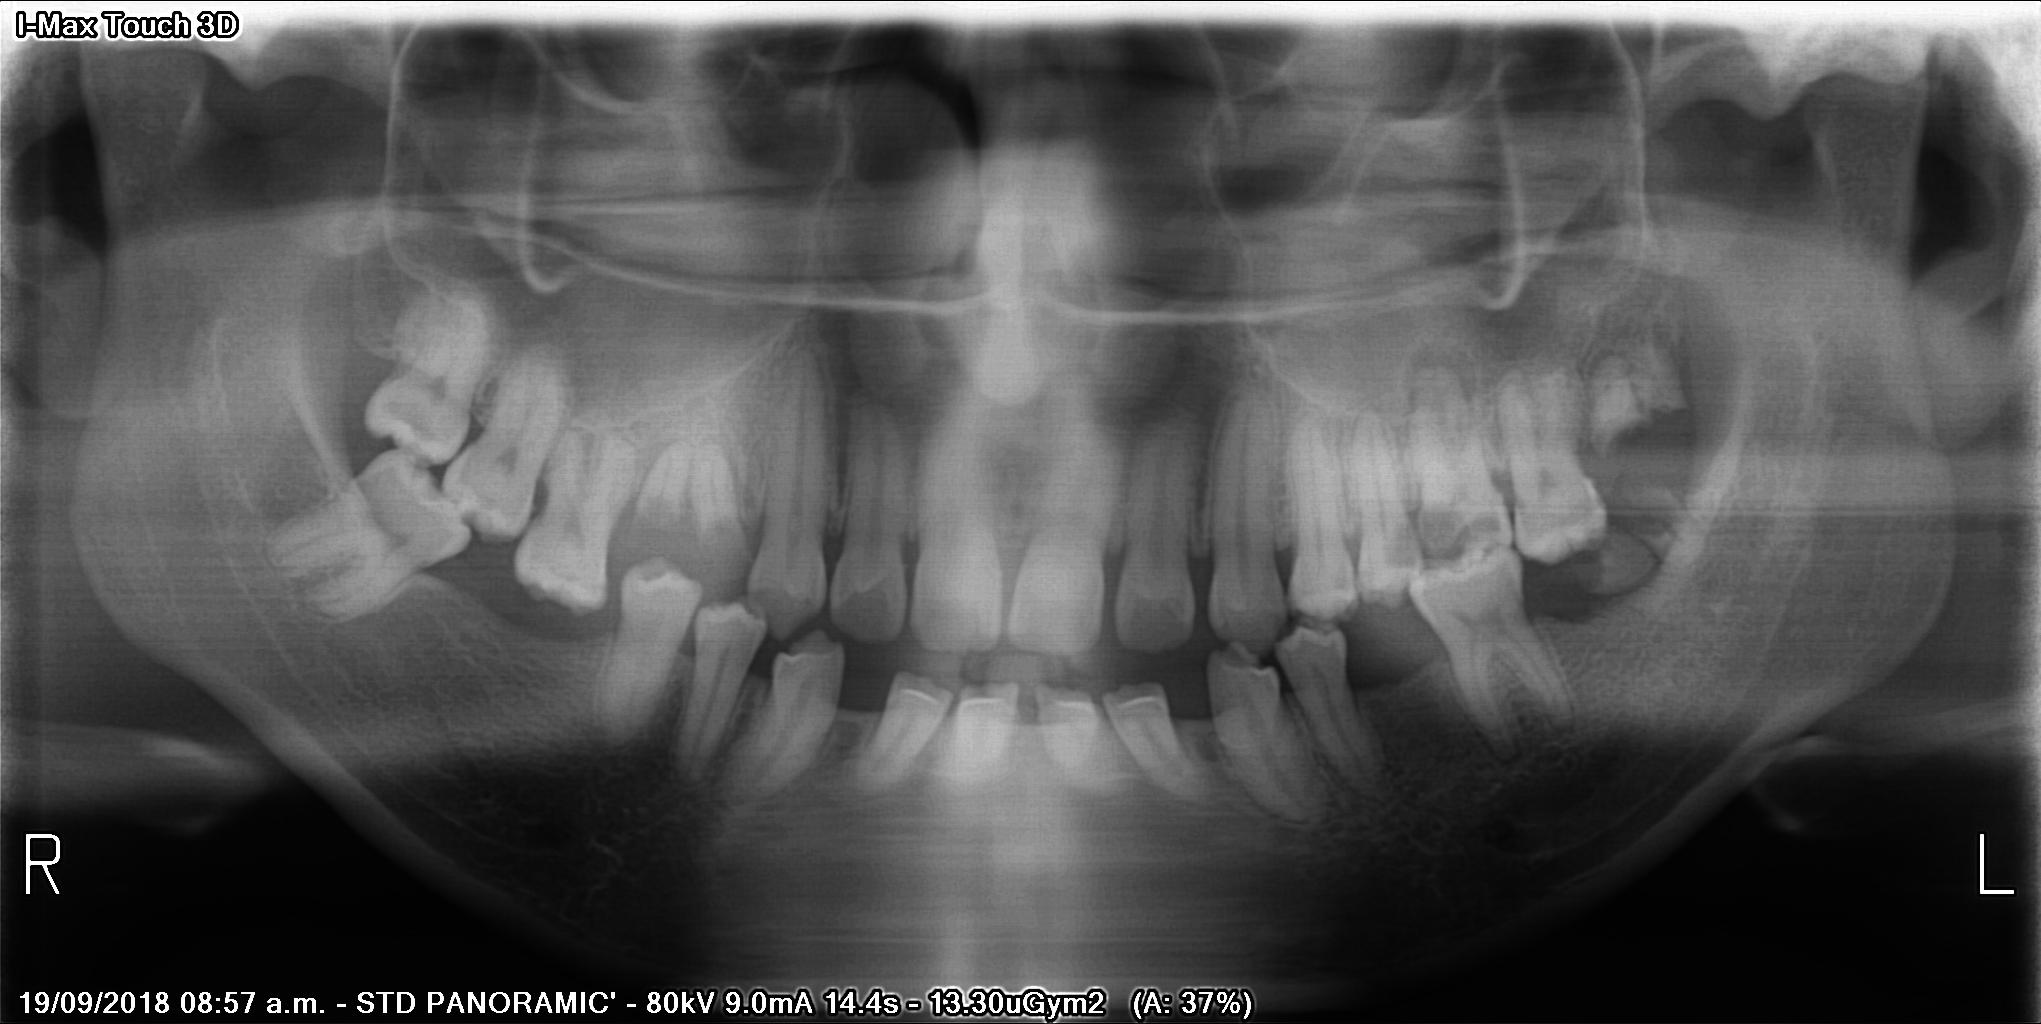Çürük Bölgesi: (1416, 499, 1513, 555), (706, 522, 768, 569), (1385, 524, 1436, 568), (633, 509, 691, 543)
